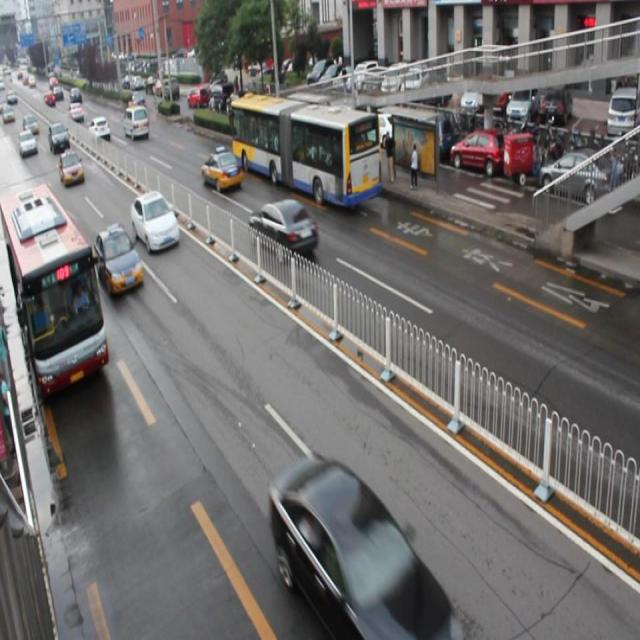car: (268, 452, 462, 640), (248, 201, 317, 261), (95, 222, 144, 298), (131, 190, 179, 253), (199, 147, 244, 193), (60, 148, 84, 187)
van: (1, 182, 109, 395), (229, 91, 379, 212)
